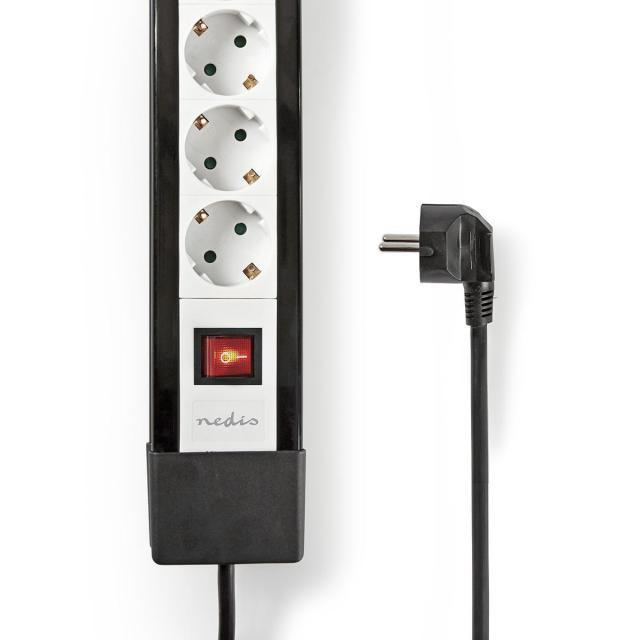typeb: (144, 4, 306, 443)
